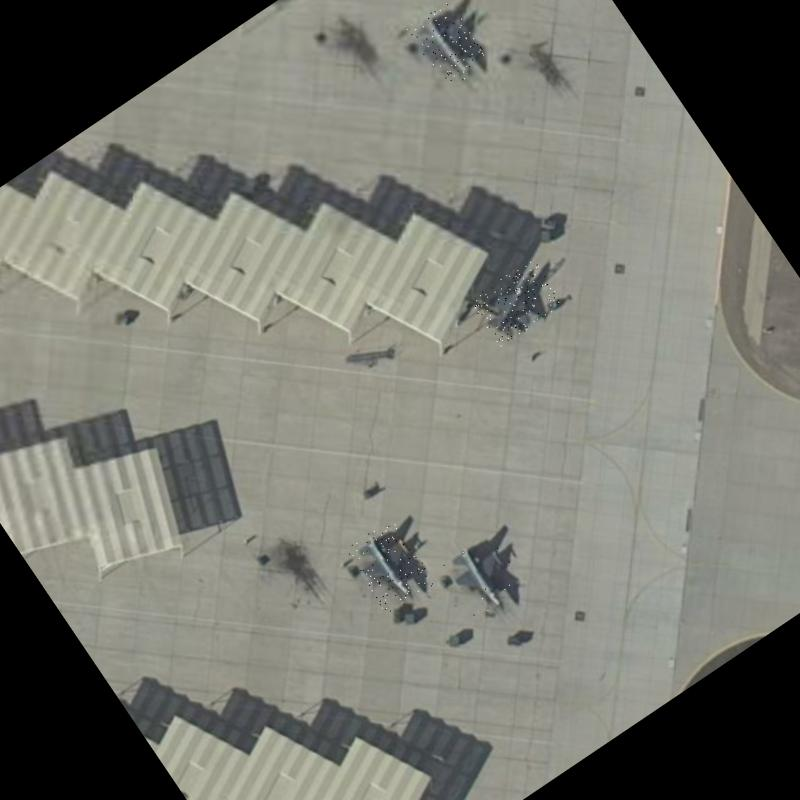A5: (438, 528, 534, 628), (344, 518, 436, 616), (469, 258, 565, 348), (406, 0, 491, 91)
